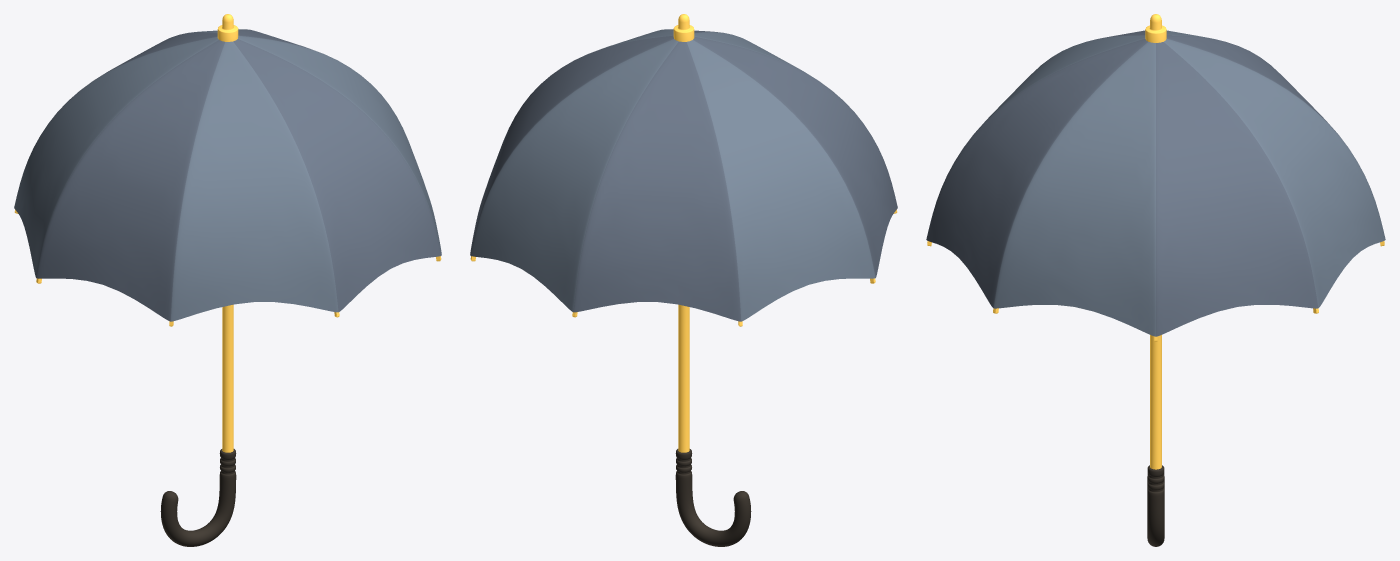
File: umbrella.glb
3 views of the same model, side by side, from view 1: azimuth 30°, elevation 25°; view 2: azimuth 150°, elevation 25°; view 3: azimuth 270°, elevation 25° (orthographic). The views are drawn at different scales.
Visible parts, largest first — view 1: Circle; view 2: Circle; view 3: Circle.
Part boxes in pixels (x1=…): Circle: x1=14, y1=14, x2=441, y2=546; Circle: x1=470, y1=14, x2=897, y2=546; Circle: x1=926, y1=14, x2=1385, y2=546.
Size of the model in its own units: 2.07 by 2.7 by 2.07.
